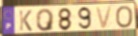8: (58, 7, 74, 32)
9: (77, 7, 93, 31)
K: (18, 10, 33, 32)
O: (115, 5, 134, 29)
Q: (35, 8, 56, 32)
V: (94, 5, 115, 31)
